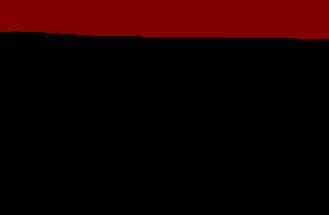Sky: (1, 1, 328, 214)
